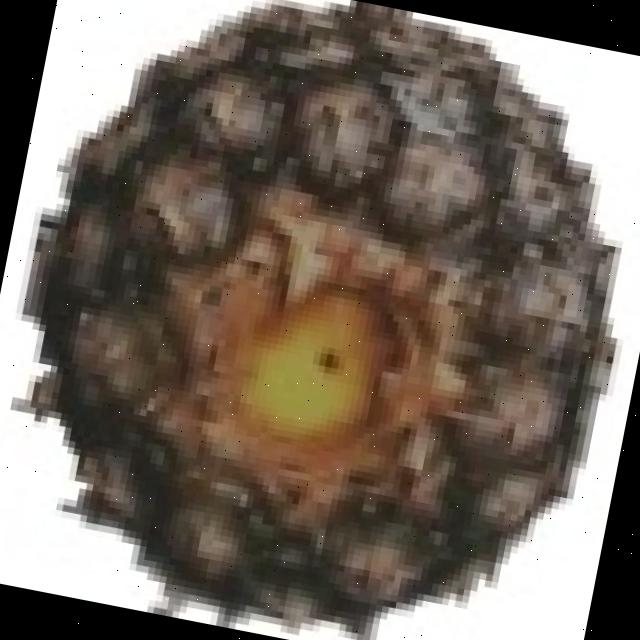pineapple: (44, 1, 625, 625)
